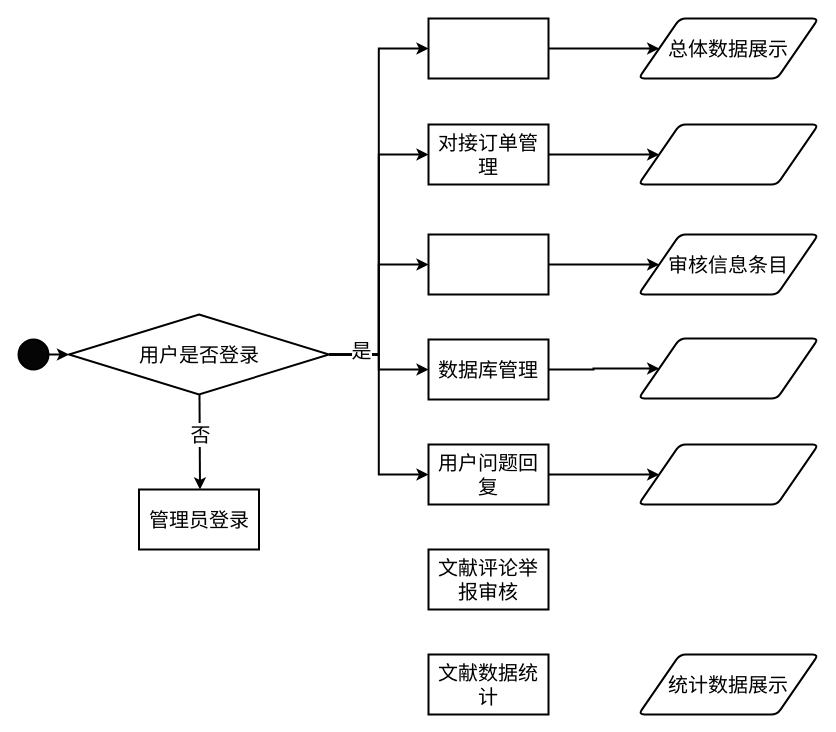
Some shapes in this 836 by 732 pixel diagram are drawn without their labels. Here are the shapes that lost their labels. From the top down, the centre of each, then its label:
pixel 488 48: 数据信息统计
pixel 728 154: 订单信息条目
pixel 488 264: 用户、成果信息认证
pixel 728 368: 实体增删改查
pixel 728 474: 多轮消息沟通
